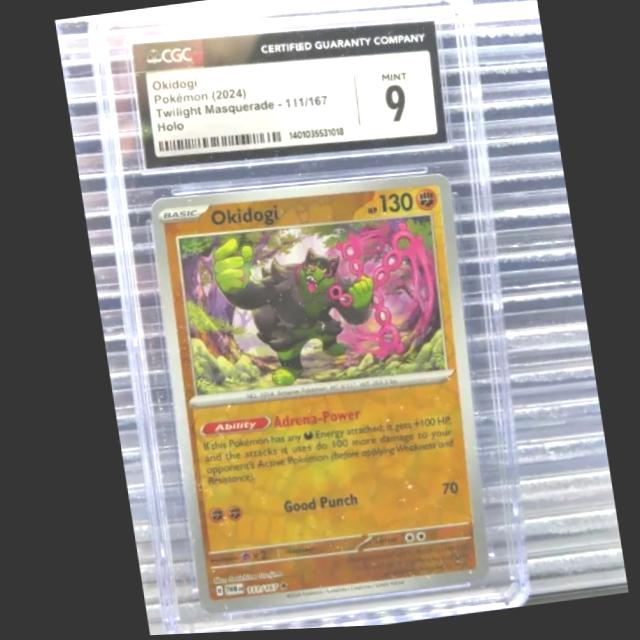card: (144, 176, 484, 615)
cgc_label: (128, 23, 446, 171)
cgc_slab: (85, 0, 524, 636)
